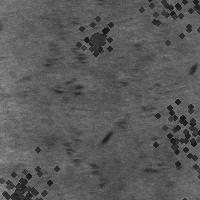rolled-in_scale: (138, 86, 200, 190), (107, 79, 171, 179), (123, 0, 200, 58), (0, 137, 68, 200), (42, 38, 90, 98), (70, 13, 118, 61), (62, 139, 105, 188), (0, 173, 39, 200)
